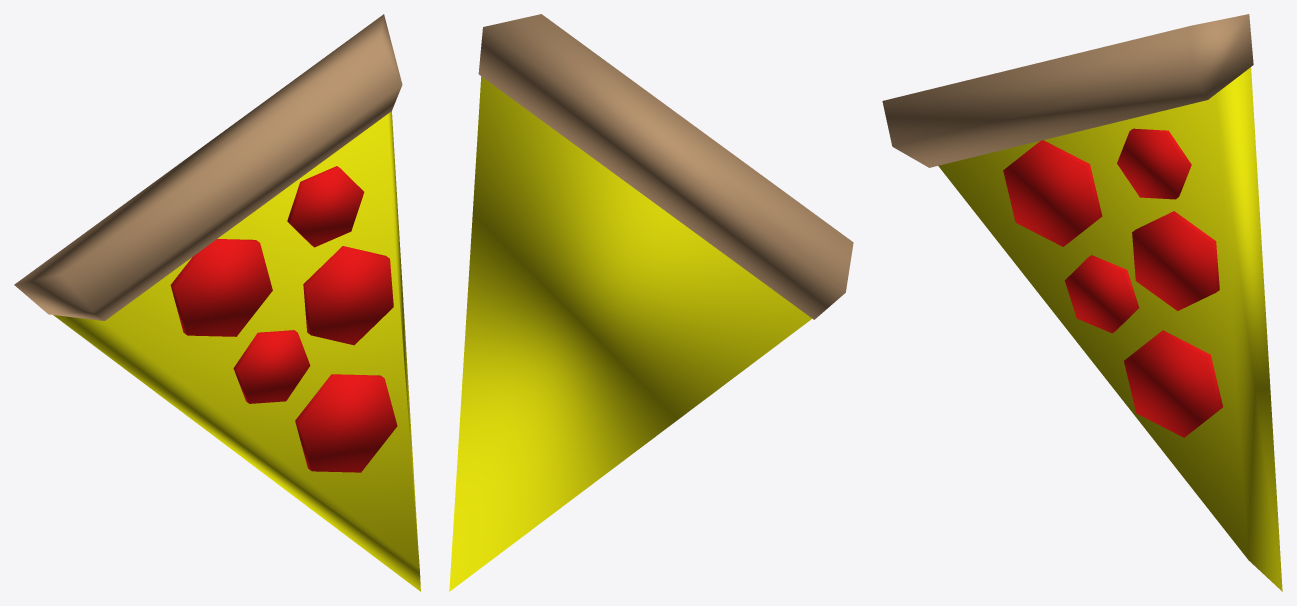
File: PIZZA.fbx
3 views of the same model, side by side, from view 1: azimuth 30°, elevation 25°; view 2: azimuth 150°, elevation 25°; view 3: azimuth 330°, elevation 25° (orthographic). The views are drawn at different scales.
Parts seen in each view (by area): view 1: PIZZA; view 2: PIZZA; view 3: PIZZA.
Part boxes in pixels (bbox=[...]): PIZZA: bbox=[14, 14, 420, 591]; PIZZA: bbox=[449, 14, 853, 591]; PIZZA: bbox=[882, 14, 1282, 591].
Size of the model in its own units: 58.28 by 80.51 by 9.5.
